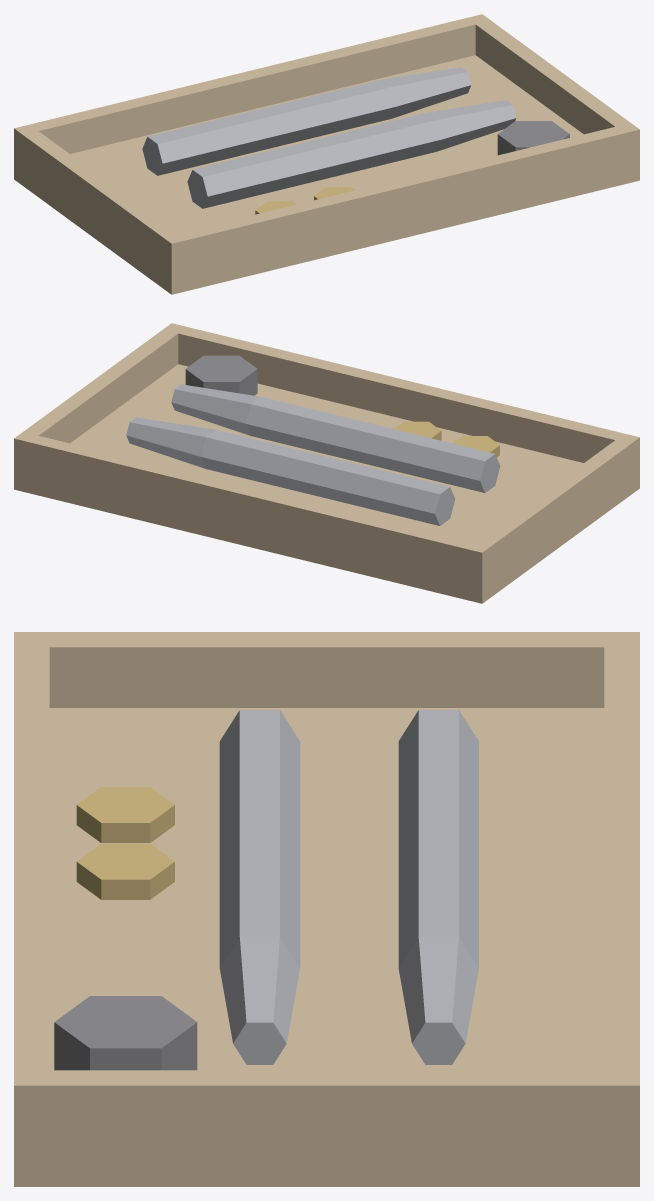
Rendered from prop-grommet-punch-set.fbx.
The picture shows the model from 3 angles, top to bottom: view 1: azimuth 30°, elevation 25°; view 2: azimuth 150°, elevation 25°; view 3: azimuth 270°, elevation 25°; orthographic projection. The views are drawn at different scales.
Parts seen in each view (by area): view 1: prop-grommet-punch-set; view 2: prop-grommet-punch-set; view 3: prop-grommet-punch-set.
Boxes of the visible parts, x1,y1,x2,y2 form: prop-grommet-punch-set: (14,14,639,294); prop-grommet-punch-set: (14,323,639,603); prop-grommet-punch-set: (14,632,639,1186).
Bounding box in the file's own units: 24 × 2.68 × 14.
